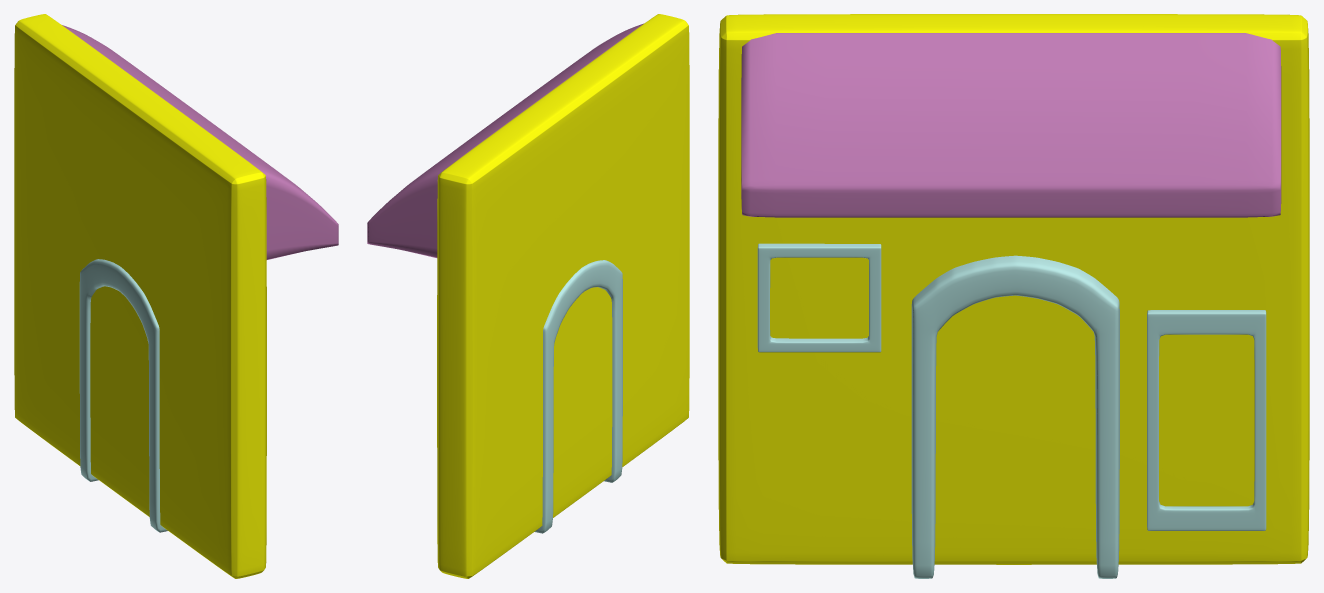
The picture shows the model from 3 angles, left to right: view 1: azimuth 30°, elevation 25°; view 2: azimuth 150°, elevation 25°; view 3: azimuth 270°, elevation 25°; orthographic projection. The views are drawn at different scales.
Visible parts, largest first — view 1: pCube670; view 2: pCube670; view 3: pCube670.
Part boxes in pixels (bbox=[...]): pCube670: bbox=[14, 14, 338, 578]; pCube670: bbox=[367, 14, 689, 578]; pCube670: bbox=[718, 14, 1309, 578].
Size of the model in its own units: 0.3118 by 1.01 by 0.9995.
